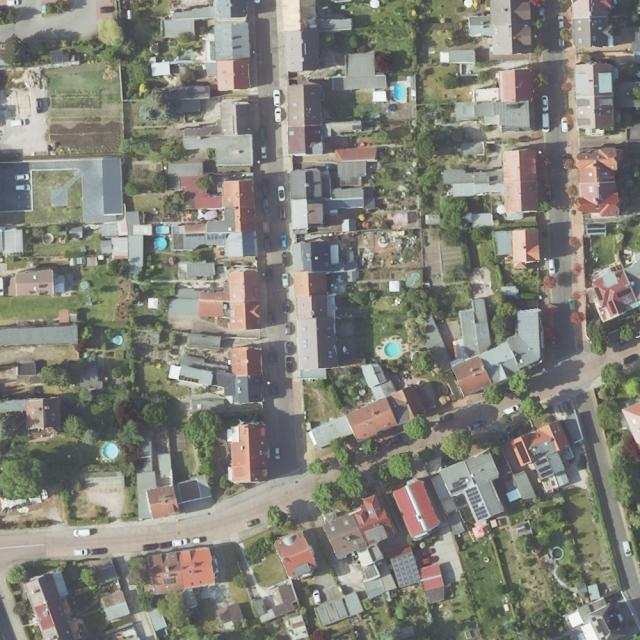PV: (390, 553, 420, 588), (466, 487, 489, 521), (449, 483, 468, 495), (538, 465, 554, 478), (614, 287, 631, 298), (594, 286, 603, 302), (607, 300, 617, 314), (207, 234, 226, 240), (534, 458, 547, 466)
ST: (514, 441, 530, 463), (178, 375, 201, 384), (163, 577, 176, 585)
